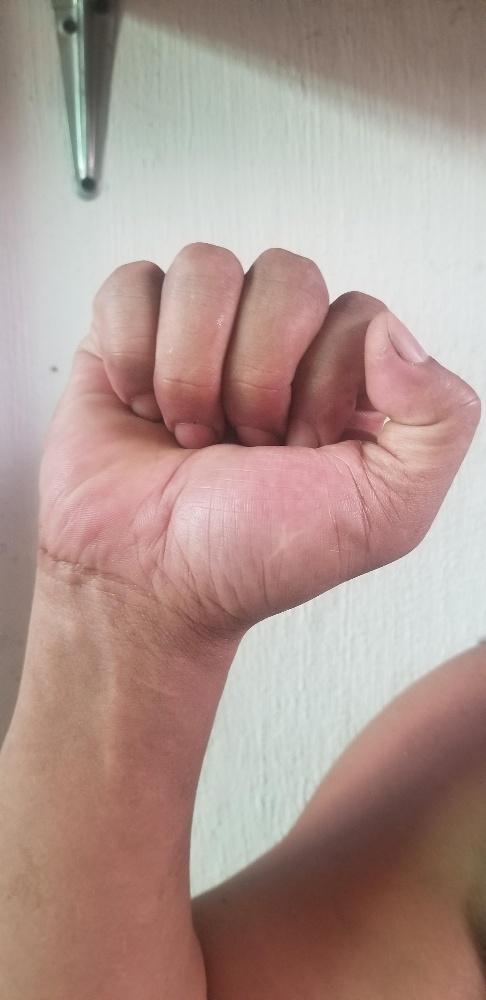a: (30, 241, 480, 625)
